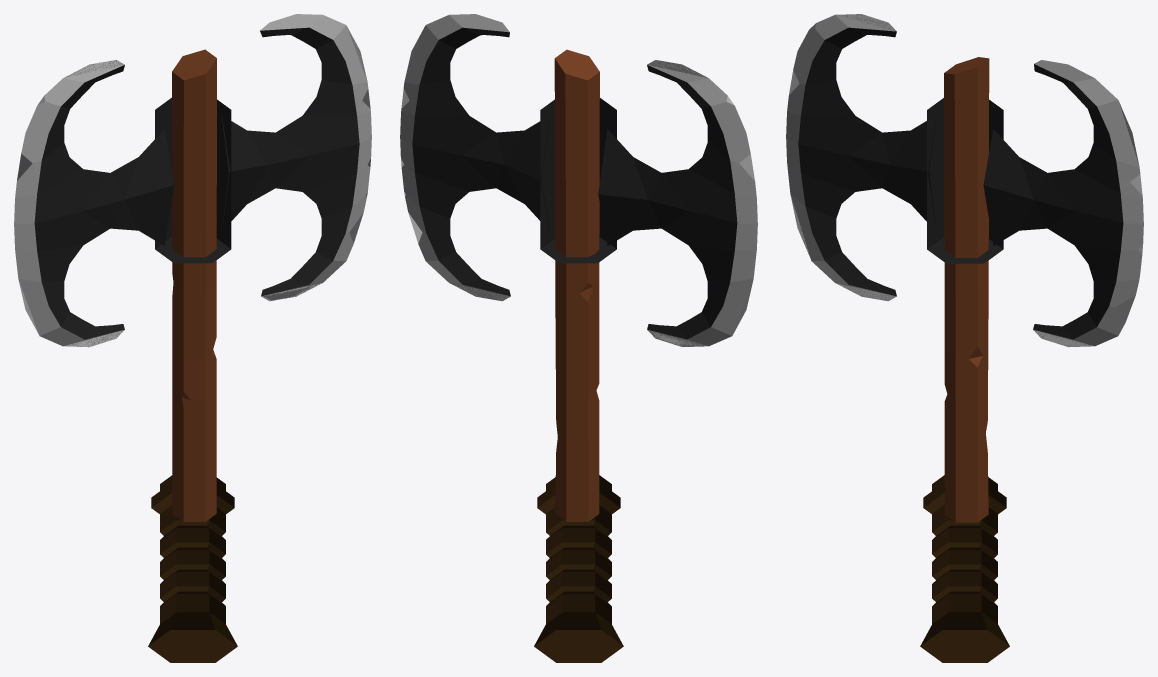
The model's file is hache.glb.
The picture shows the model from 3 angles, left to right: view 1: azimuth 30°, elevation 25°; view 2: azimuth 150°, elevation 25°; view 3: azimuth 330°, elevation 25°; orthographic projection.
Visible parts, largest first — view 1: Cylindre.001; view 2: Cylindre.001; view 3: Cylindre.001.
Part boxes in pixels (bbox=[...]): Cylindre.001: bbox=[14, 14, 371, 662]; Cylindre.001: bbox=[400, 14, 757, 662]; Cylindre.001: bbox=[786, 14, 1143, 662].
Size of the model in its own units: 0.5125 by 0.8311 by 0.1117.
